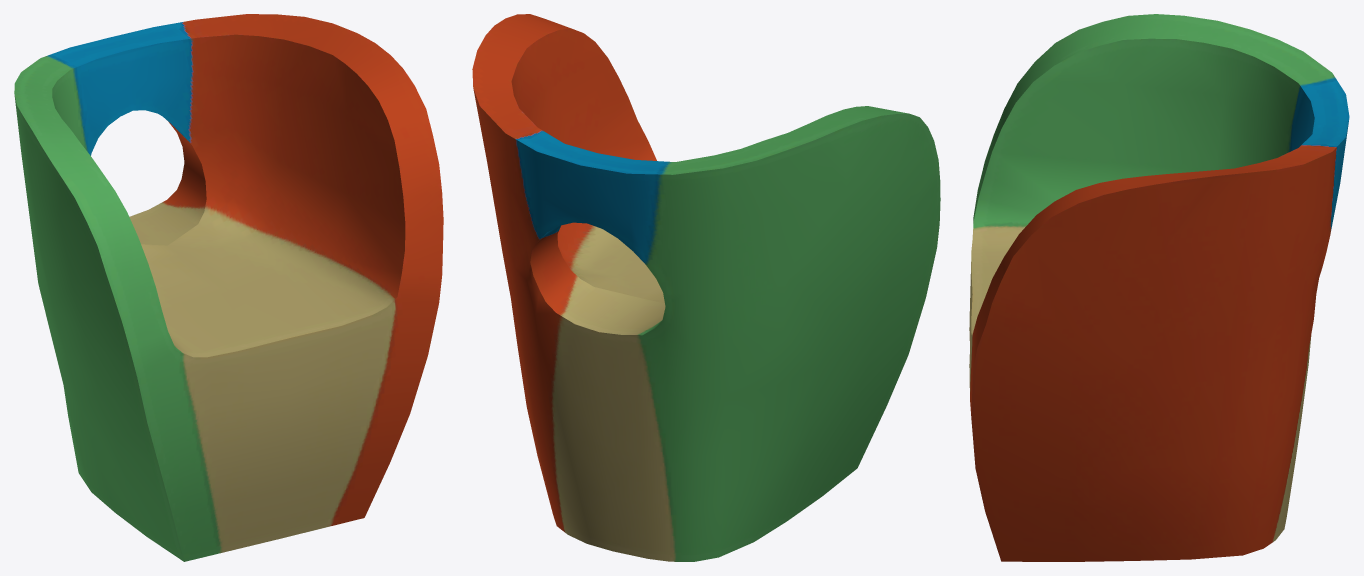
The model's file is Homeworld_Exterior_Common_Chair_Google_01_Vo.fbx.
The picture shows the model from 3 angles, left to right: view 1: azimuth 30°, elevation 25°; view 2: azimuth 150°, elevation 25°; view 3: azimuth 270°, elevation 25°; orthographic projection. The views are drawn at different scales.
Parts seen in each view (by area): view 1: Homeworld_Exterior_Common_Chair_Google_01_Vo; view 2: Homeworld_Exterior_Common_Chair_Google_01_Vo; view 3: Homeworld_Exterior_Common_Chair_Google_01_Vo.
Boxes of the visible parts, x1=… form: Homeworld_Exterior_Common_Chair_Google_01_Vo: x1=14, y1=14, x2=443, y2=561; Homeworld_Exterior_Common_Chair_Google_01_Vo: x1=472, y1=14, x2=940, y2=561; Homeworld_Exterior_Common_Chair_Google_01_Vo: x1=969, y1=14, x2=1349, y2=561.
Size of the model in its own units: 0.8583 by 0.9344 by 0.7627.
1 material, 1 textured.
